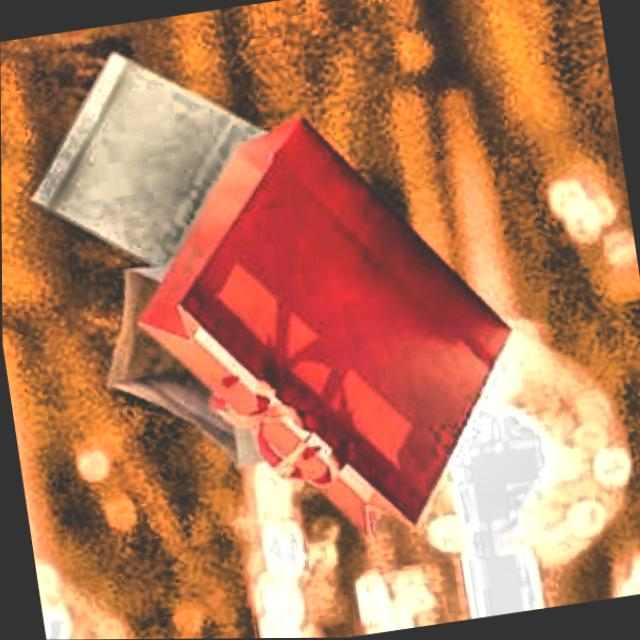Paper-bag: (129, 88, 538, 589), (20, 19, 345, 337), (78, 225, 414, 498)
